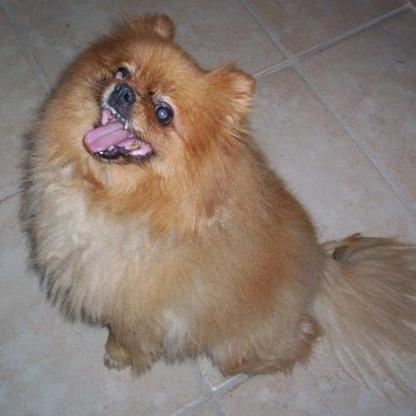Pomeranian: (21, 9, 414, 401)
